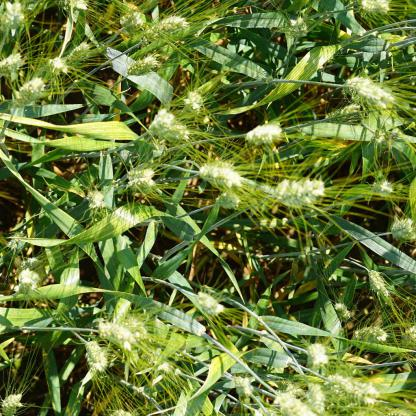whd: (273, 178, 325, 207), (100, 321, 138, 349), (144, 18, 184, 42), (355, 81, 389, 106), (85, 340, 107, 376), (302, 381, 329, 410), (276, 393, 310, 416), (246, 124, 283, 145), (201, 164, 237, 185), (345, 382, 376, 404), (354, 322, 385, 344), (2, 3, 26, 30), (16, 79, 41, 104), (195, 292, 222, 314), (125, 169, 153, 189), (150, 108, 173, 132), (370, 178, 397, 198), (325, 104, 355, 122), (130, 59, 157, 78), (388, 220, 412, 241), (121, 316, 146, 336), (234, 377, 259, 397), (275, 380, 302, 398), (16, 274, 39, 295), (334, 299, 354, 323), (1, 393, 22, 415), (121, 11, 144, 31), (184, 90, 204, 112), (213, 194, 240, 210), (362, 0, 389, 16), (67, 44, 88, 64), (1, 54, 22, 74), (368, 271, 386, 294), (310, 342, 330, 362), (371, 128, 394, 145), (149, 353, 172, 370), (330, 377, 349, 396), (50, 56, 68, 76), (400, 324, 416, 346), (164, 127, 189, 141), (89, 190, 106, 210), (288, 18, 306, 36), (6, 231, 23, 250), (62, 0, 90, 11), (342, 76, 362, 90), (20, 256, 38, 268)
